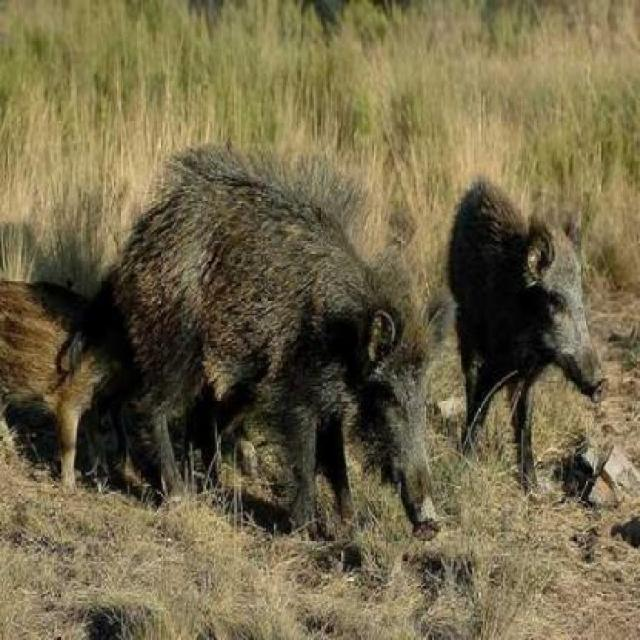pig: (74, 108, 520, 580), (323, 95, 639, 484)
